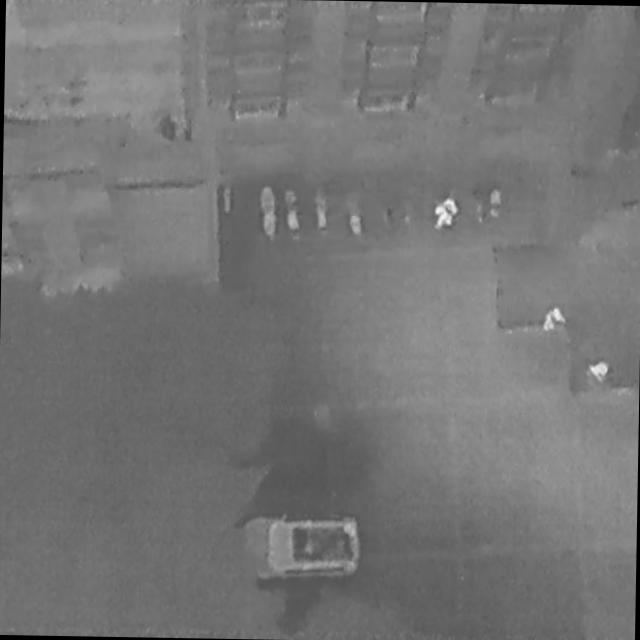person: (540, 300, 571, 341), (431, 196, 460, 235), (586, 354, 615, 388)
